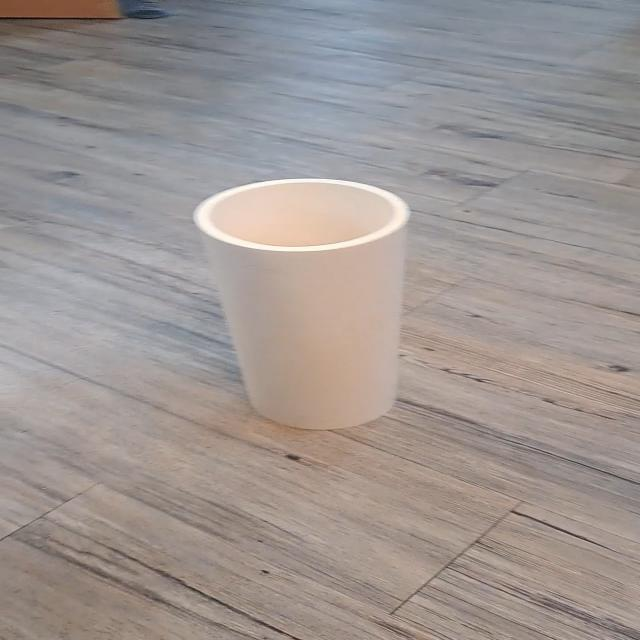CORAL: (166, 172, 514, 452)
